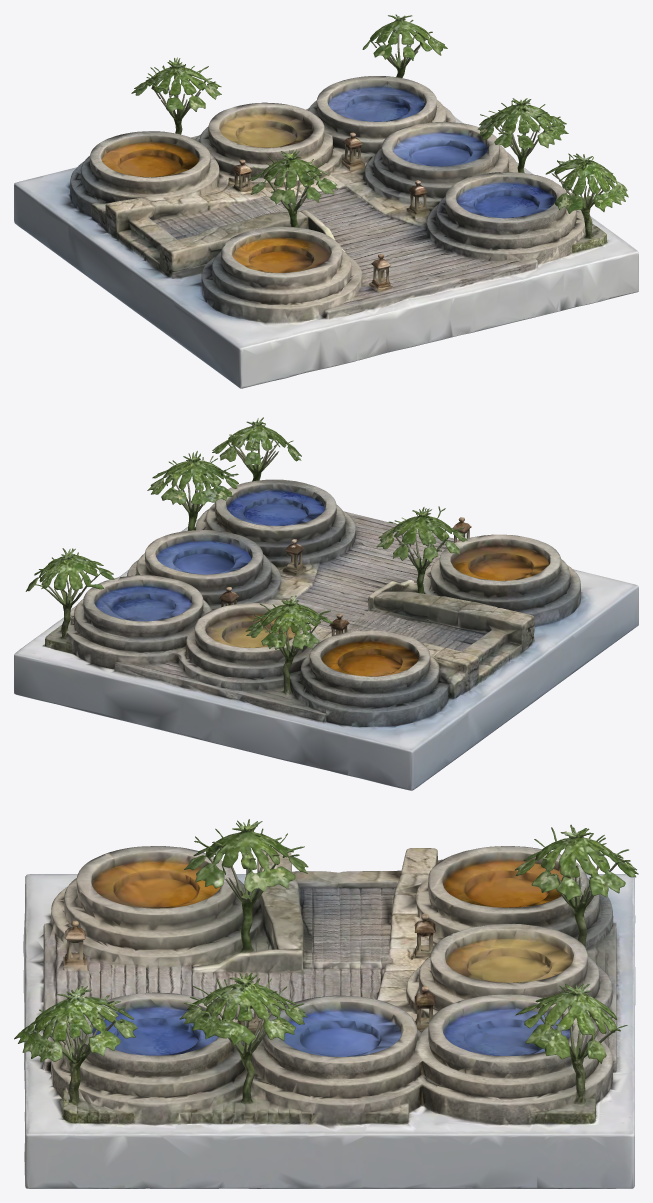
The model's file is baths.glb.
3 renders of one model, top to bottom at view 1: azimuth 30°, elevation 25°; view 2: azimuth 150°, elevation 25°; view 3: azimuth 270°, elevation 25°, orthographic. The views are drawn at different scales.
Visible parts, largest first — view 1: tripo_node_83904ff8-8649-4bbf-920e-2dabd6cab840; view 2: tripo_node_83904ff8-8649-4bbf-920e-2dabd6cab840; view 3: tripo_node_83904ff8-8649-4bbf-920e-2dabd6cab840.
Boxes of the visible parts, x1,y1,x2,y2 form: tripo_node_83904ff8-8649-4bbf-920e-2dabd6cab840: (14,14,638,388); tripo_node_83904ff8-8649-4bbf-920e-2dabd6cab840: (14,417,638,790); tripo_node_83904ff8-8649-4bbf-920e-2dabd6cab840: (14,819,638,1188).
Size of the model in its own units: 0.9814 by 0.3316 by 0.9778.
1 material, 1 textured.
